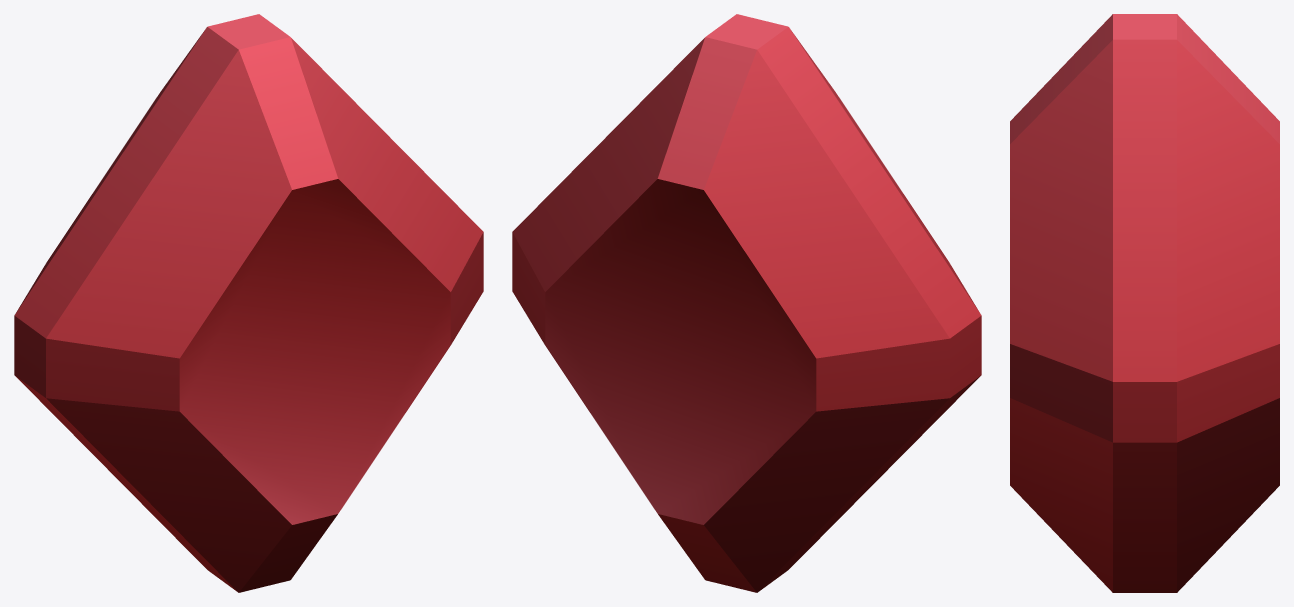
File: Ruby_01.glb
The picture shows the model from 3 angles, left to right: view 1: azimuth 30°, elevation 25°; view 2: azimuth 150°, elevation 25°; view 3: azimuth 270°, elevation 25°; orthographic projection.
Parts seen in each view (by area): view 1: Ruby_01; view 2: Ruby_01; view 3: Ruby_01.
Part boxes in pixels (left/top/right/bottom): Ruby_01: left=14, top=14, right=483, bottom=592; Ruby_01: left=512, top=14, right=981, bottom=592; Ruby_01: left=1010, top=14, right=1279, bottom=592.
Bounding box in the file's own units: 0.2304 × 0.2733 × 0.1208.
Materials: 1 (1 with a texture image).
